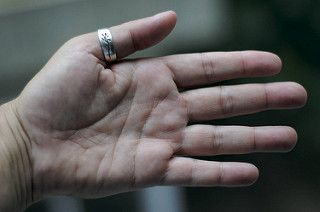palm: (37, 59, 188, 186)
